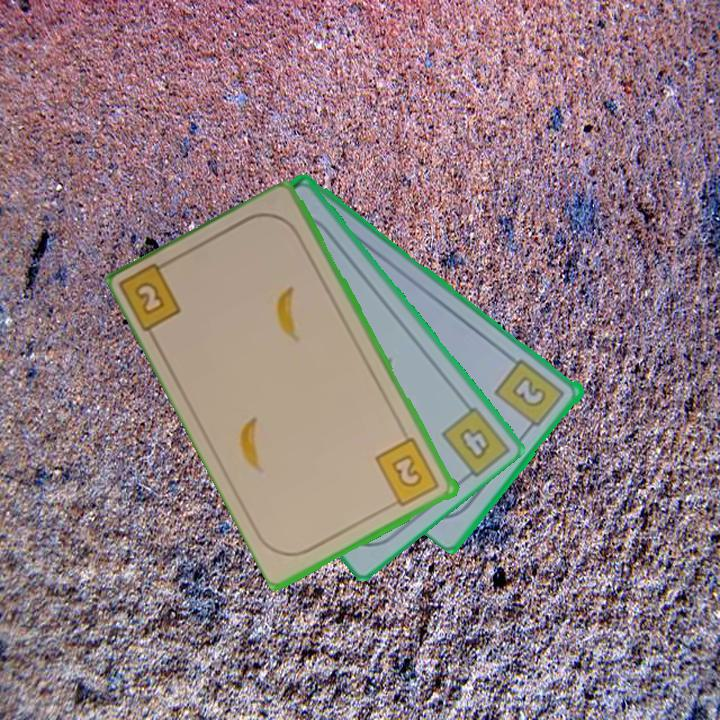2b: (492, 355, 568, 435), (372, 434, 443, 511), (119, 255, 185, 336)
4b: (456, 424, 494, 463)
